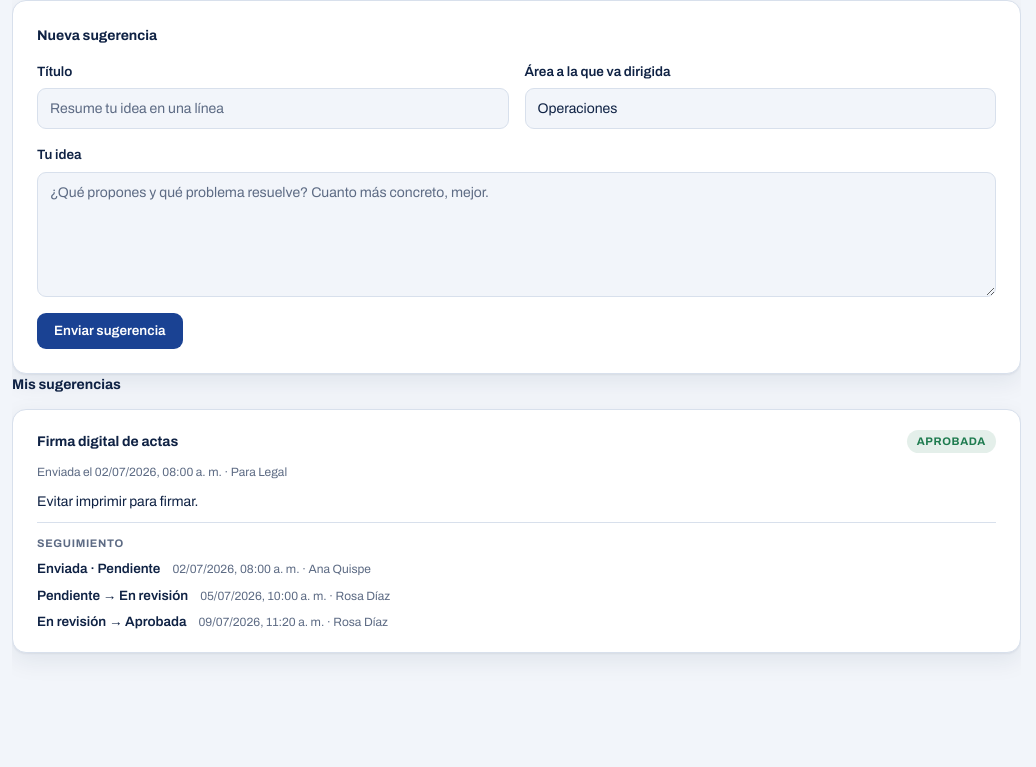
Test case: el envío › agrega la sugerencia registrada al principio de la lista, sin volver a preguntar
Type "Tablero de peajes" into the field labelled "Título".
click(273, 109); type("Tablero de peajes")  # box [37,88,508,129]
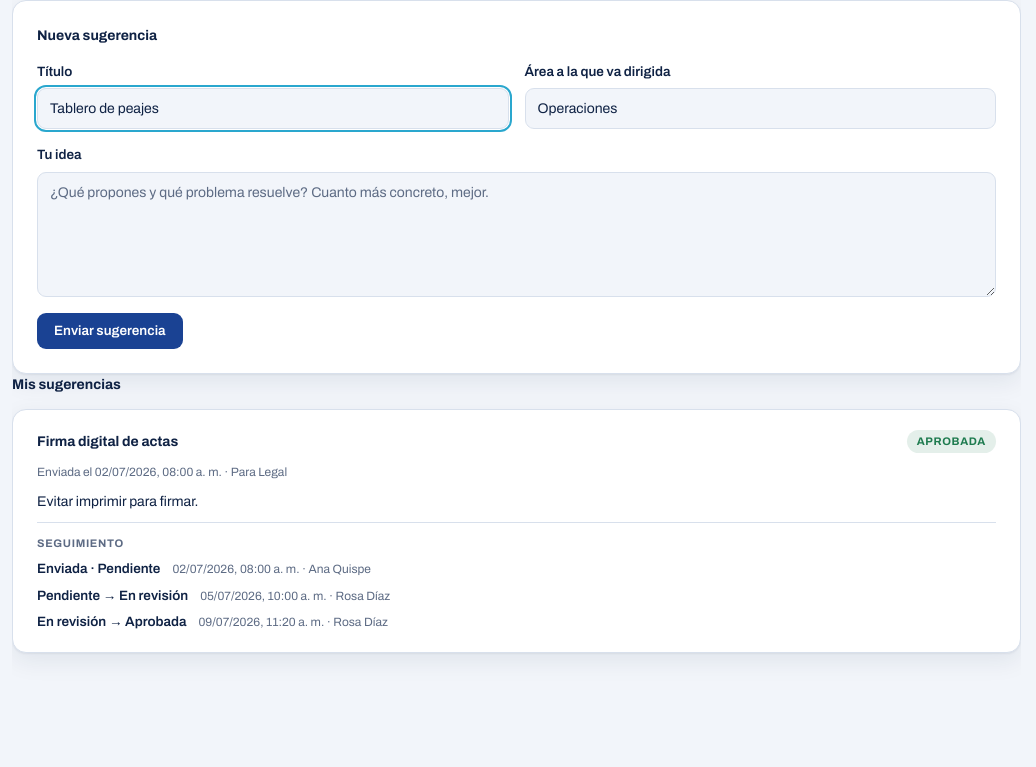
Type "Ver el flujo por caseta." into the text box labelled "Tu idea".
click(516, 234); type("Ver el flujo por caseta.")  # box [37,172,996,296]
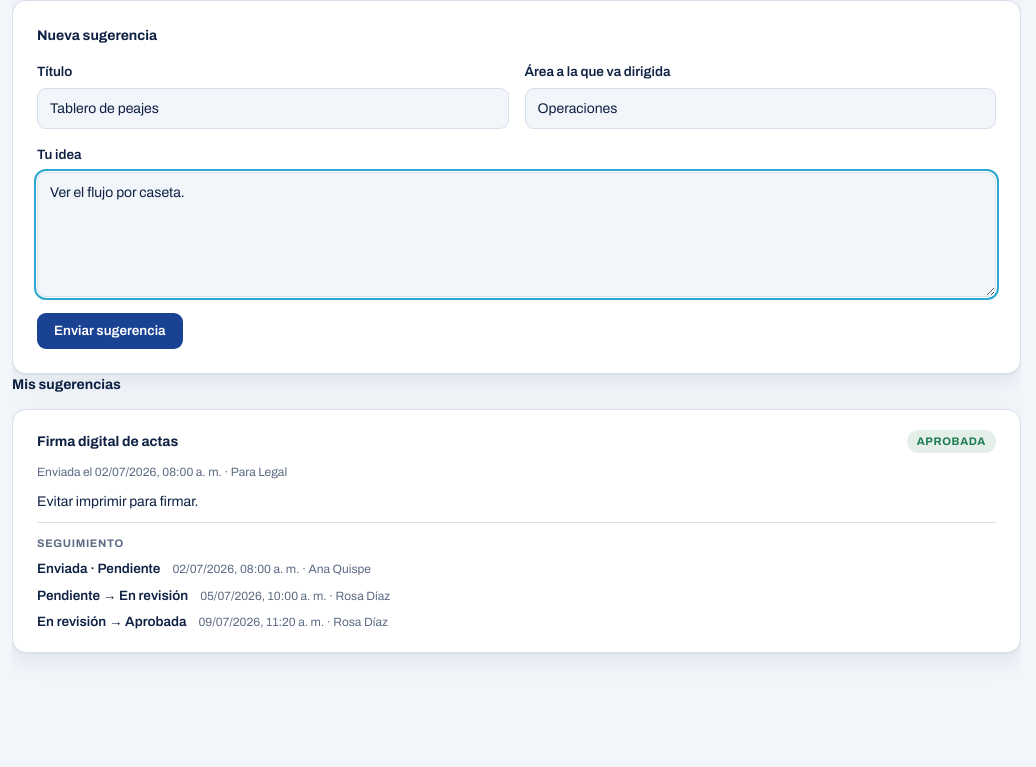
Click the button "Enviar sugerencia".
click(110, 331)  # box [37,312,183,349]
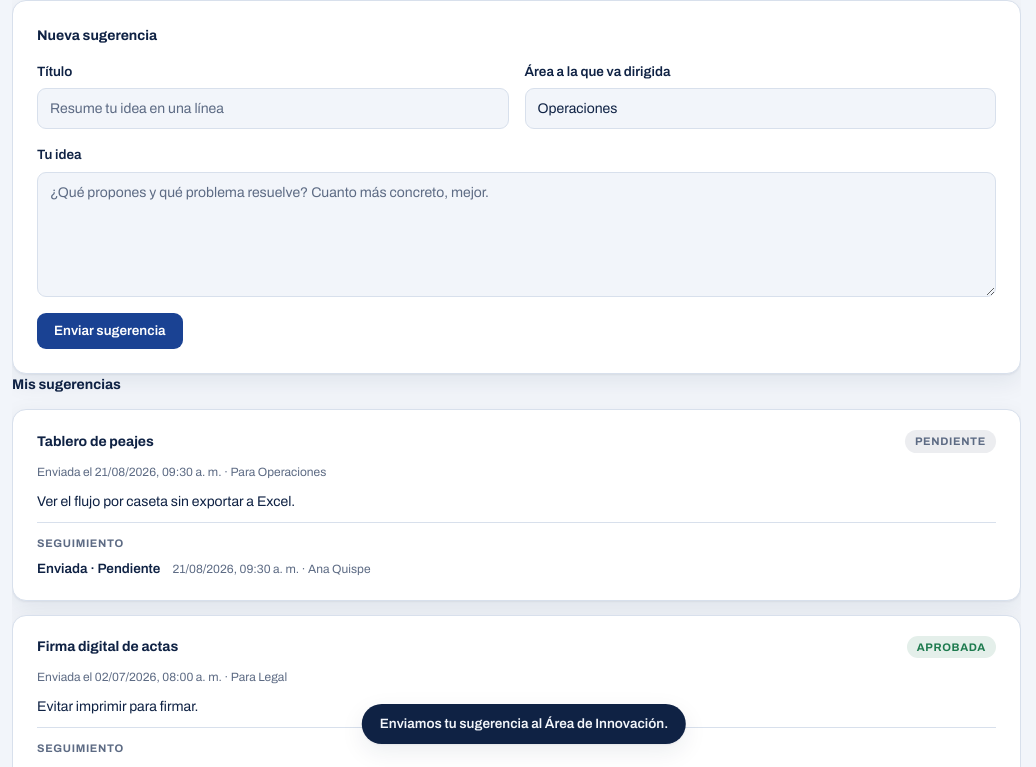
Check: the headings read "Tablero de peajes", "Firma digital de actas", in this order, box [37,431,154,452]; [37,636,178,657]
